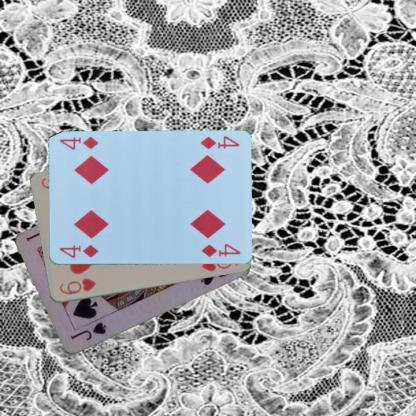4d: (57, 242, 100, 260), (198, 133, 240, 151)
6h: (56, 276, 98, 296)
Js: (68, 320, 108, 342)
